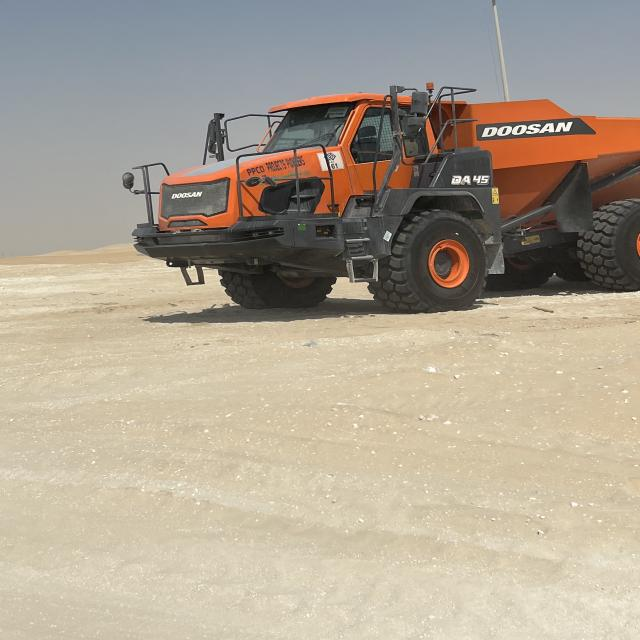dump_truck: (121, 78, 638, 318)
